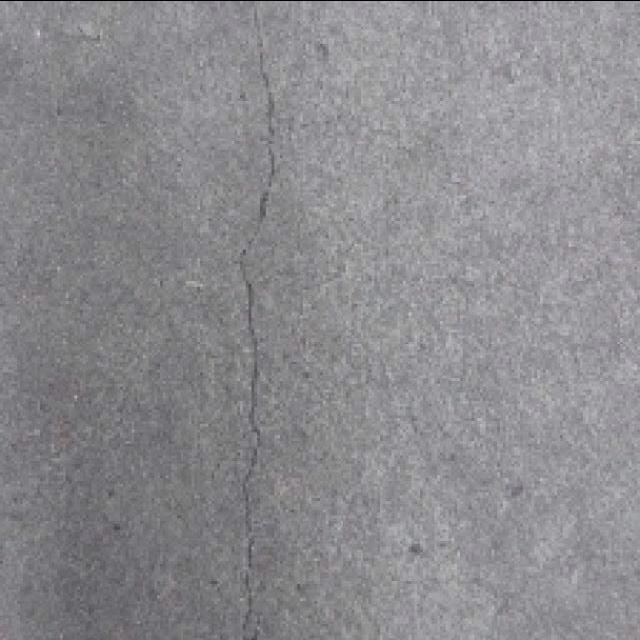SurfaceCrack: (206, 0, 318, 640)
